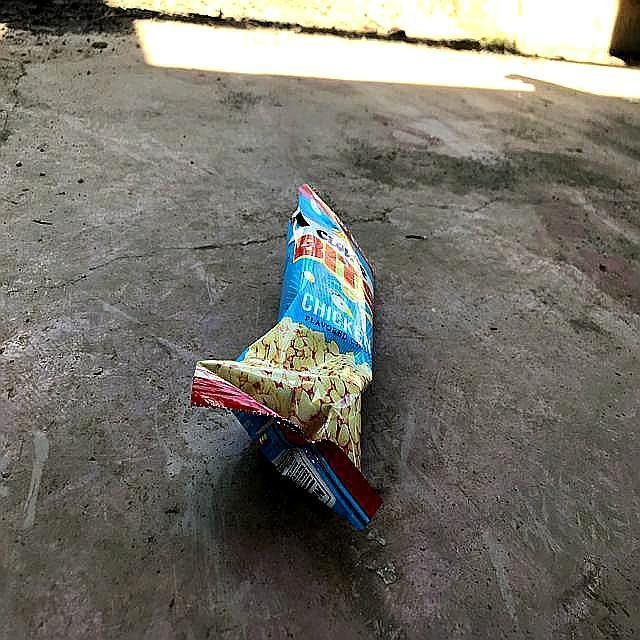Non-biodegradable: (189, 182, 386, 535)
